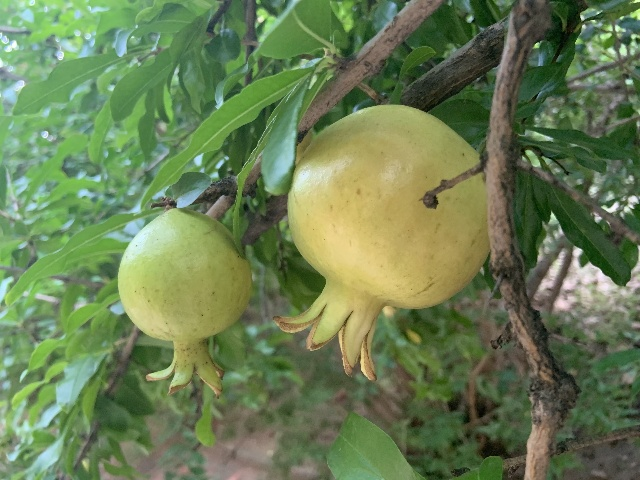mid-growth: (274, 105, 490, 385), (116, 209, 253, 397)
